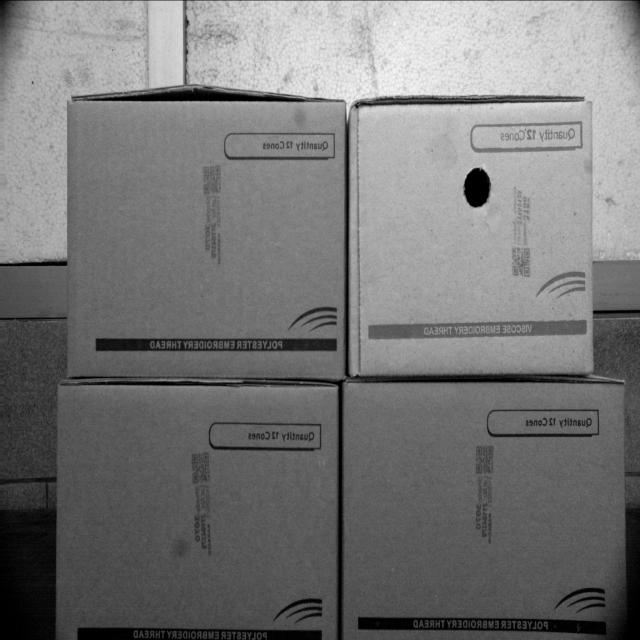cardboxes: (64, 94, 346, 386), (342, 377, 627, 639), (56, 383, 342, 639), (350, 97, 589, 374)
